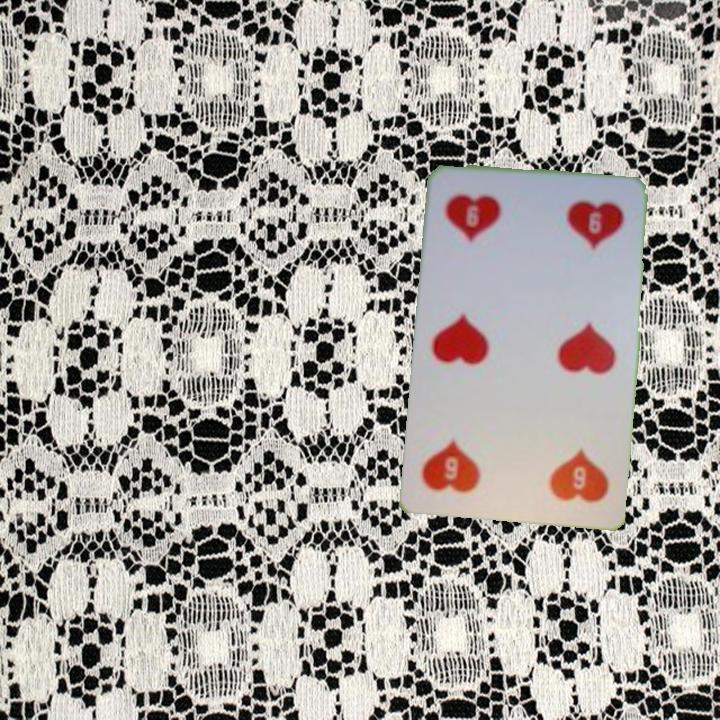h_6.png: (436, 177, 543, 271), (510, 420, 616, 514)
